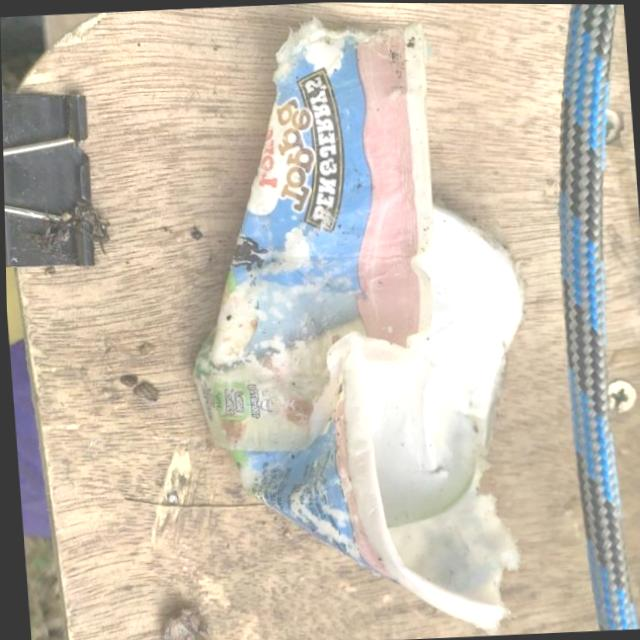Paper: (159, 1, 547, 640)
